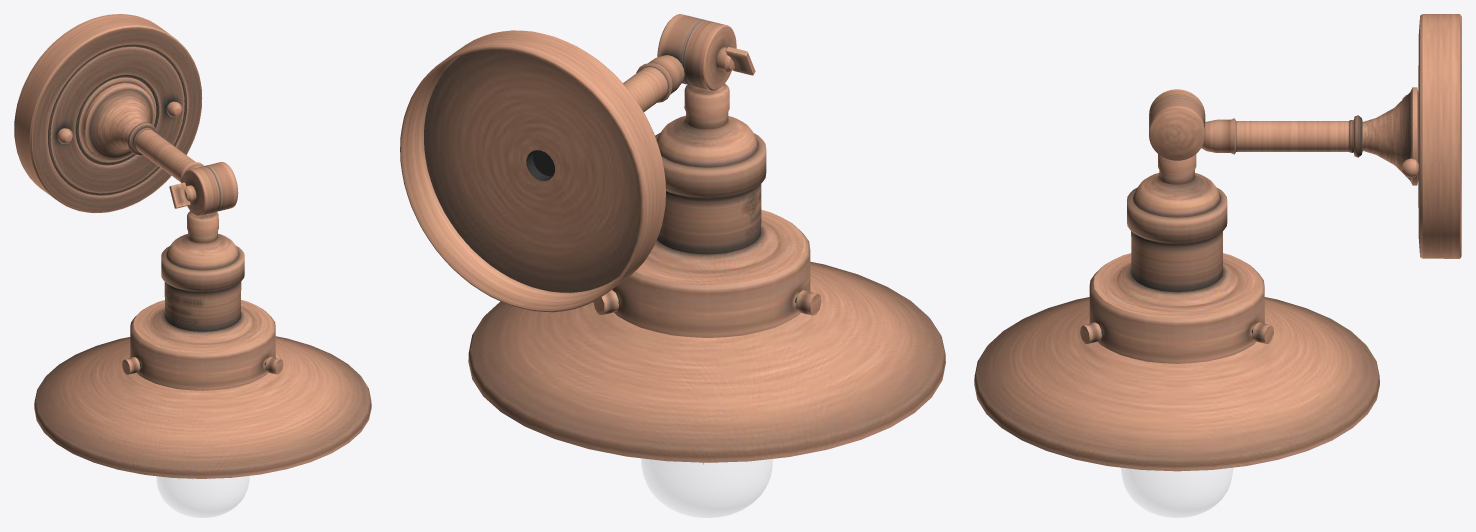
File: walllamp.glb
3 views of the same model, side by side, from view 1: azimuth 30°, elevation 25°; view 2: azimuth 150°, elevation 25°; view 3: azimuth 270°, elevation 25° (orthographic). The views are drawn at different scales.
Visible parts, largest first — view 1: Lamp Metal, Lamp Glass; view 2: Lamp Metal, Lamp Glass; view 3: Lamp Metal, Lamp Glass.
Boxes of the visible parts, x1,y1,x2,y2 form: Lamp Metal: (14,14,371,479); Lamp Glass: (157,476,249,517); Lamp Metal: (400,14,945,464); Lamp Glass: (641,458,772,517); Lamp Metal: (974,14,1461,471); Lamp Glass: (1121,468,1232,517).
Bounding box in the file's own units: 0.1908 × 0.2552 × 0.2265.
3 materials, 1 textured.
